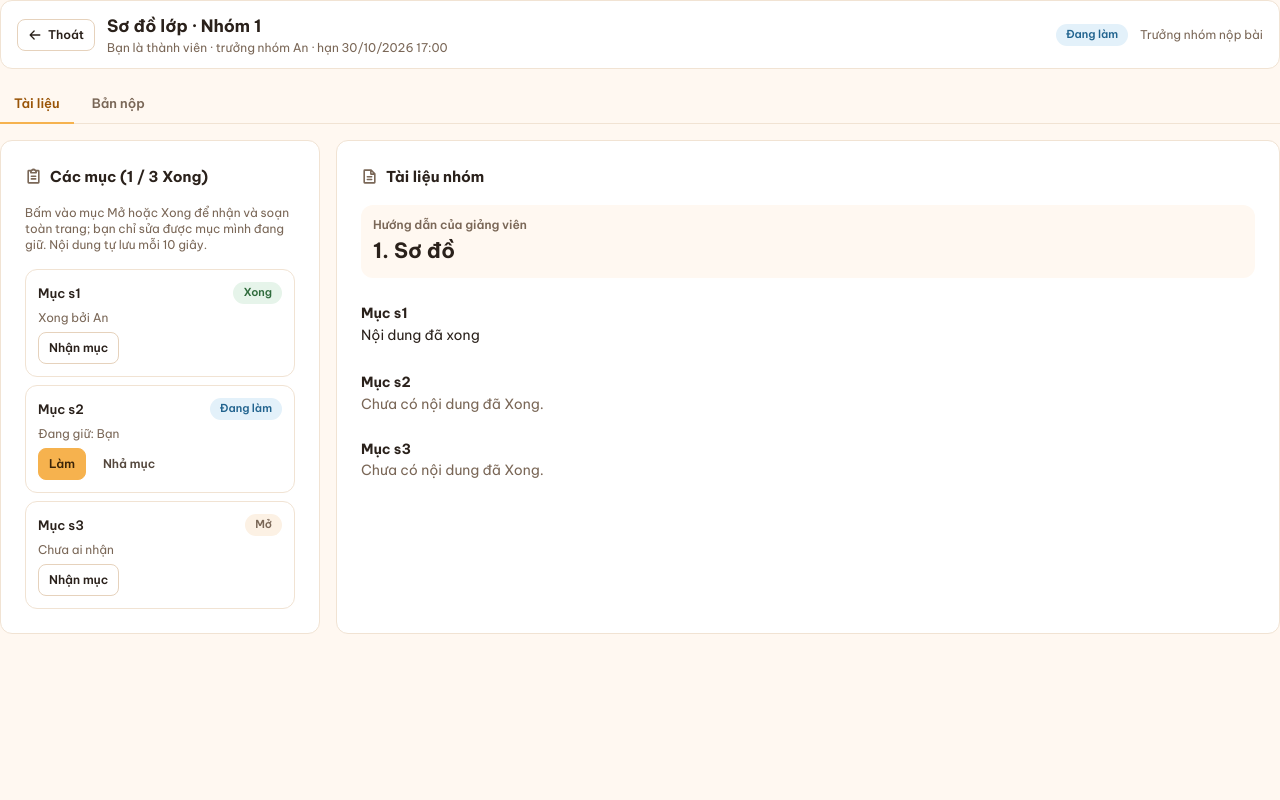
Scenario: GroupWorkspacePage › thành viên thấy nội dung đã Xong, nhận mục mở, không có nút nộp
Check: the text "Nội dung đã xong" is shown, box [361, 326, 480, 344]
Check: the text "Trưởng nhóm nộp bài" is shown, box [1140, 27, 1263, 43]
Step 1. Click the 2nd button "Nhận mục" → [79, 580], box [38, 564, 119, 596]
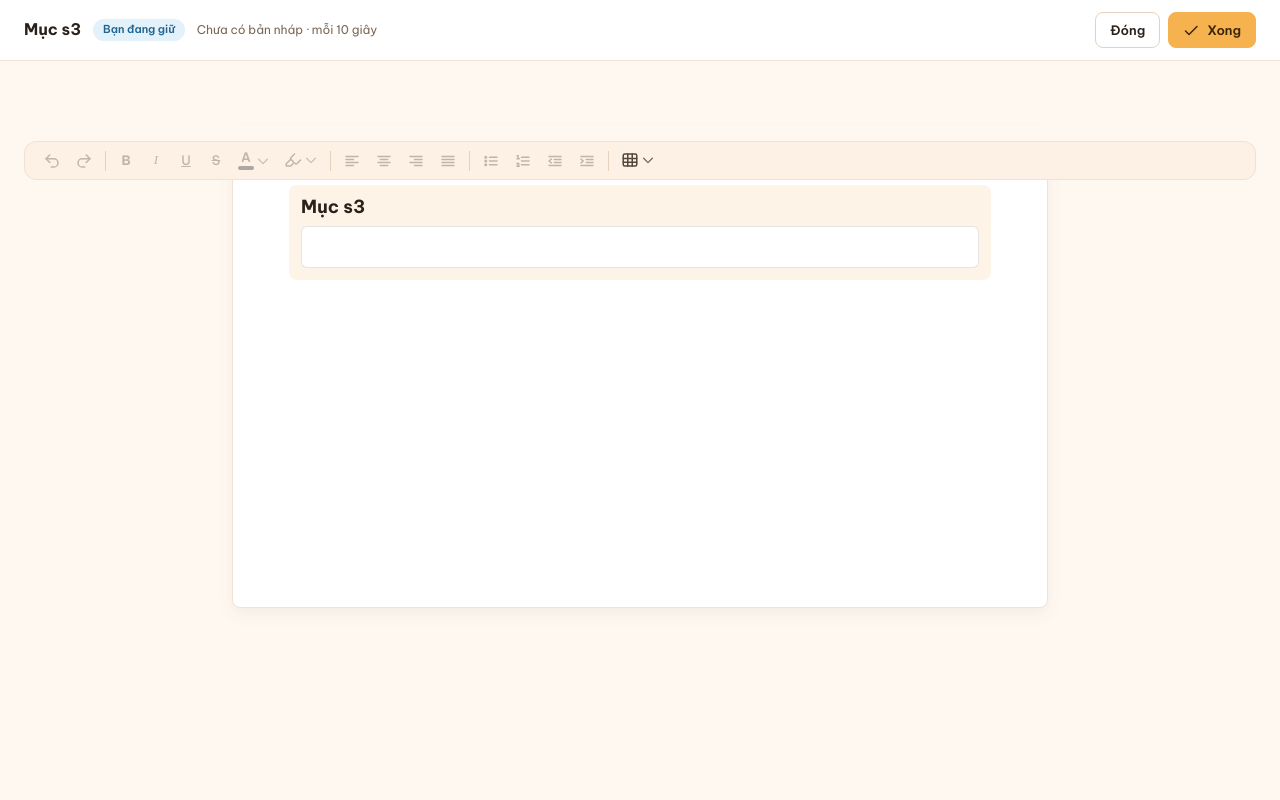
Check: the text "Bạn đang giữ" is shown, box [93, 19, 185, 41]
